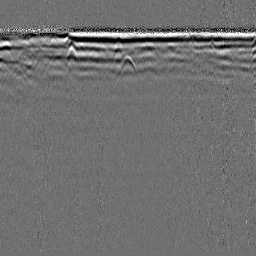cavity: (116, 53, 139, 77)
